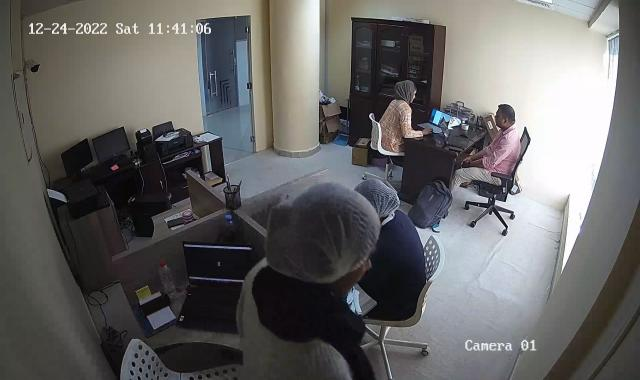hairnet: (265, 182, 378, 286), (358, 180, 402, 215)
no_hairnet: (394, 77, 418, 109), (496, 101, 518, 132)
